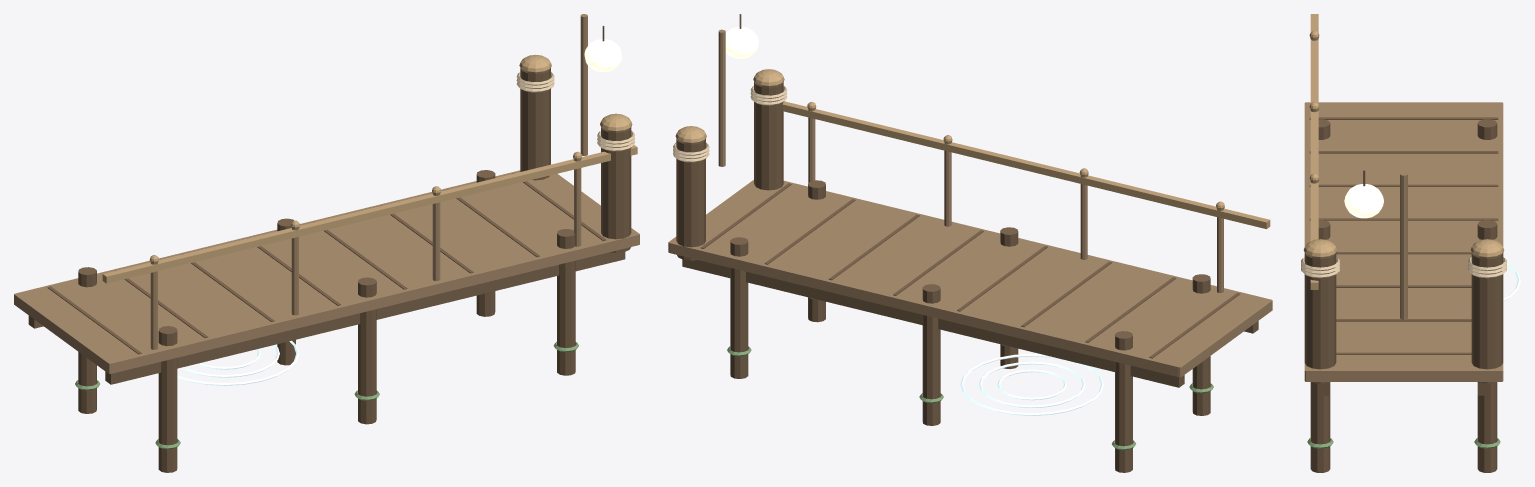
File: fishing_pier.glb
The picture shows the model from 3 angles, left to right: view 1: azimuth 30°, elevation 25°; view 2: azimuth 150°, elevation 25°; view 3: azimuth 270°, elevation 25°; orthographic projection. The views are drawn at different scales.
Visible parts, largest first — view 1: fishing_pier; view 2: fishing_pier; view 3: fishing_pier.
Part boxes in pixels (x1,y1,x2,y2): fishing_pier: [14, 14, 639, 472]; fishing_pier: [668, 14, 1272, 472]; fishing_pier: [1301, 14, 1520, 472].
Size of the model in its own units: 3.25 by 1.82 by 1.11.
